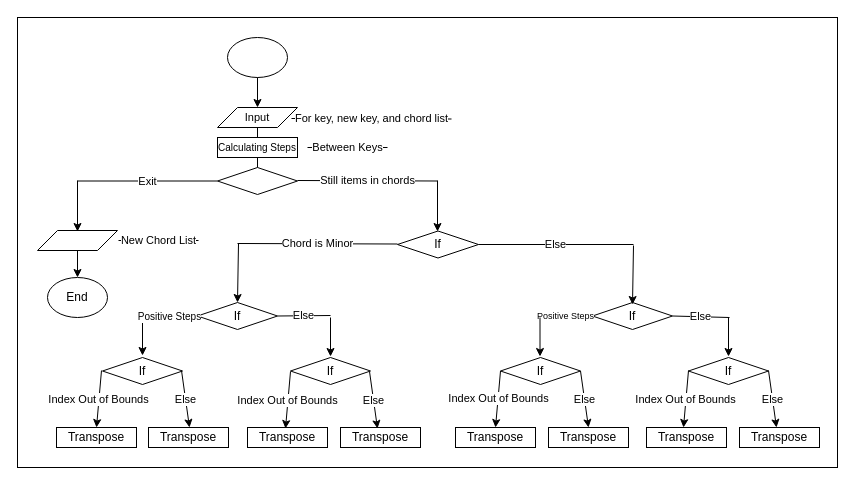
Image size: 855x485. Some labels were removed from this diagram. The shapes that lost their labels are listed below. From the top down, each one's centre as x and y in pixels, then its label:
At (x=257, y=57): "Start".
At (x=257, y=180): "For Loop".
At (x=77, y=240): "Output".
